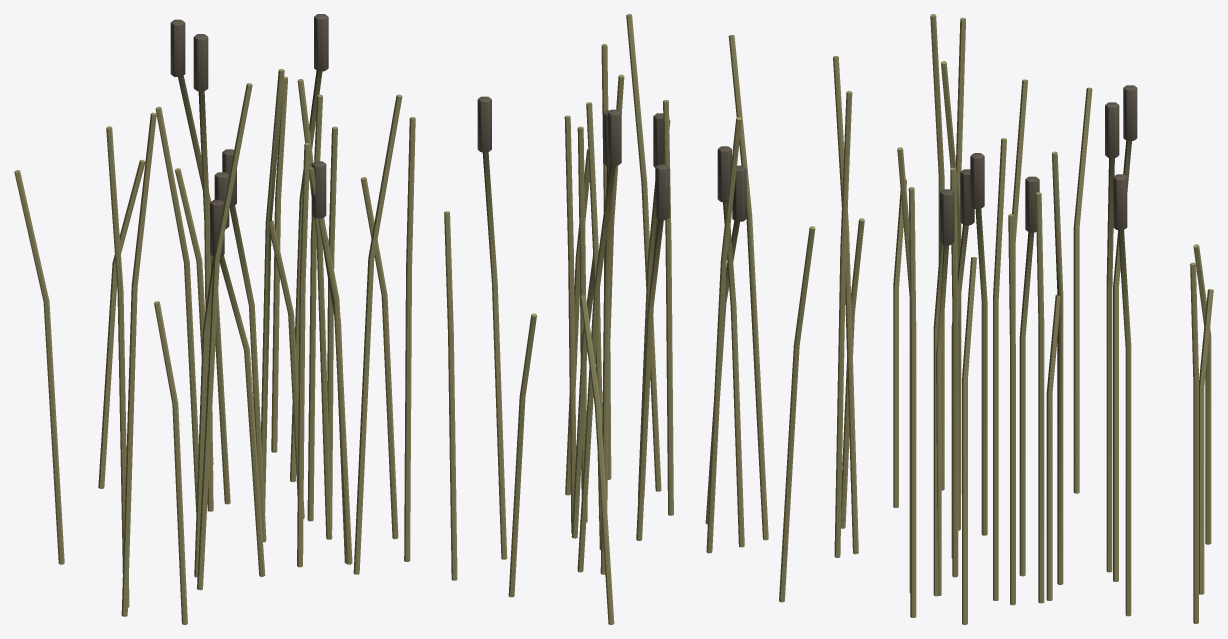
The model's file is reeds.glb.
The picture shows the model from 3 angles, left to right: view 1: azimuth 30°, elevation 25°; view 2: azimuth 150°, elevation 25°; view 3: azimuth 270°, elevation 25°; orthographic projection. The views are drawn at different scales.
Parts seen in each view (by area): view 1: boat_reed, boat_rotwood; view 2: boat_reed, boat_rotwood; view 3: boat_reed, boat_rotwood.
Part boxes in pixels (<box>): boat_reed: <box>14,69,415,624</box>; boat_rotwood: <box>170,14,328,256</box>; boat_reed: <box>444,14,864,624</box>; boat_rotwood: <box>477,96,746,221</box>; boat_reed: <box>893,14,1213,624</box>; boat_rotwood: <box>940,85,1137,245</box>.
Size of the model in its own units: 1.5 by 2.19 by 1.31.
